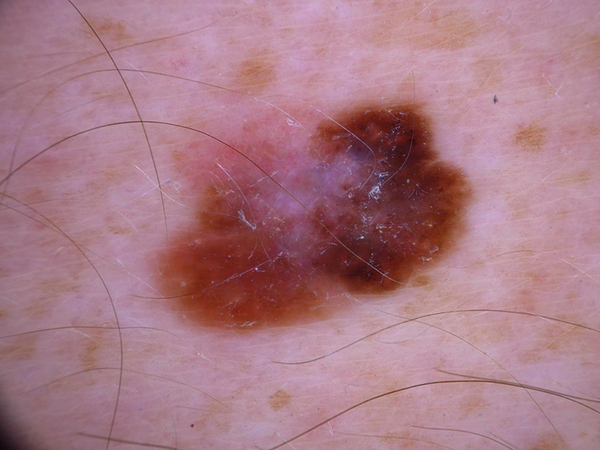Color changes: (305, 232, 343, 271)
